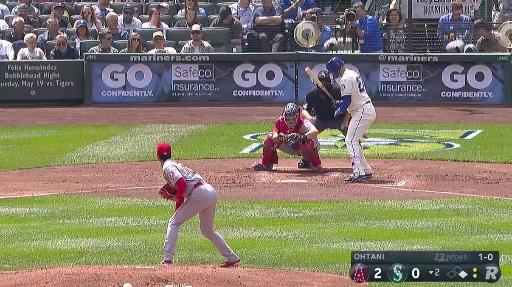pitcher: (153, 144, 243, 269)
